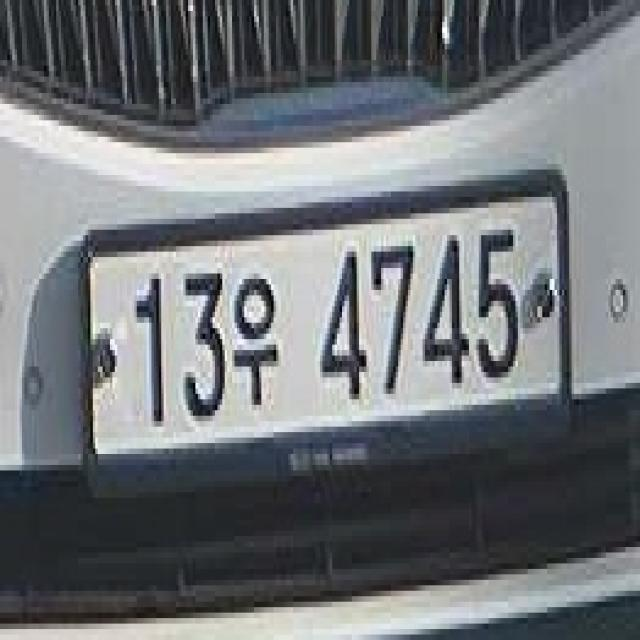1: (136, 274, 166, 438)
3: (181, 254, 228, 434)
4: (424, 221, 472, 398), (320, 238, 368, 408)
5: (476, 212, 522, 390)
7: (369, 224, 416, 400)
license_plate: (73, 174, 572, 460)
u: (232, 254, 279, 423)
